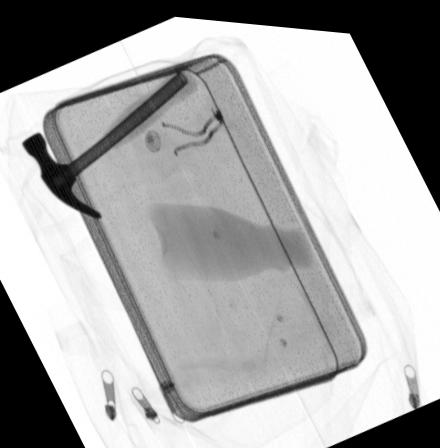Hammer: (20, 65, 190, 218)
